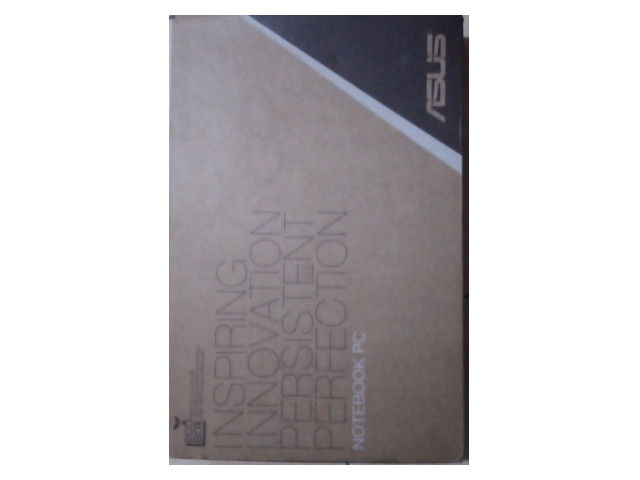cardboard: (168, 15, 465, 458)
